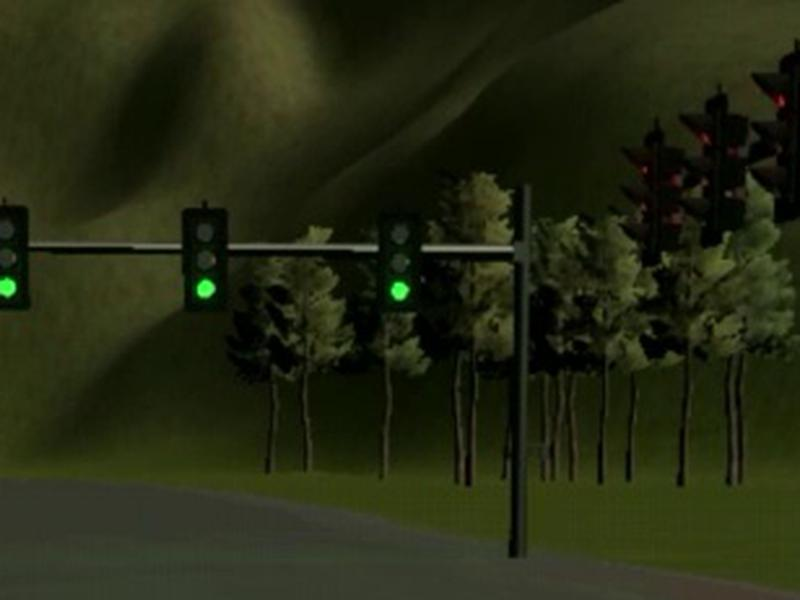Green: (182, 206, 228, 312), (376, 213, 422, 314), (1, 203, 30, 311)
